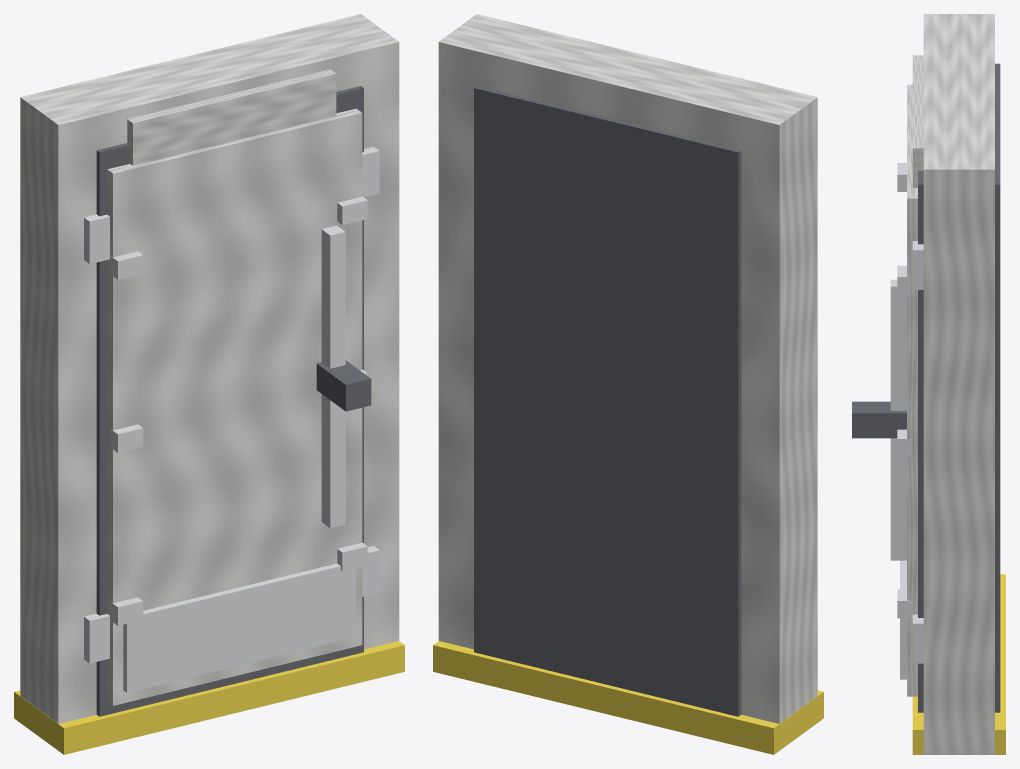
Rendered from cruise-ship-deck-and-lounge-cruise-ship-deck-and-loung-386d3bf7__38428.glb.
3 renders of one model, left to right at view 1: azimuth 30°, elevation 25°; view 2: azimuth 150°, elevation 25°; view 3: azimuth 270°, elevation 25°, orthographic. The views are drawn at different scales.
Parts seen in each view (by area): view 1: cruise-ship-deck-and-lounge-crew-door, crew-door-leaf/white, crew-door-leaf/steel (×7), crew-door-leaf/charcoal; view 2: cruise-ship-deck-and-lounge-crew-door; view 3: cruise-ship-deck-and-lounge-crew-door, crew-door-leaf/steel (×6), crew-door-leaf/white, crew-door-leaf/charcoal.
Part boxes in pixels (x1,y1,x2,y2): cruise-ship-deck-and-lounge-crew-door: [14, 14, 404, 754]; crew-door-leaf/white: [107, 108, 362, 705]; crew-door-leaf/steel (×7): [110, 196, 367, 692]; crew-door-leaf/charcoal: [316, 360, 371, 411]; cruise-ship-deck-and-lounge-crew-door: [433, 14, 823, 754]; cruise-ship-deck-and-lounge-crew-door: [912, 14, 1005, 754]; crew-door-leaf/steel (×6): [890, 163, 910, 679]; crew-door-leaf/white: [907, 84, 917, 696]; crew-door-leaf/charcoal: [852, 401, 906, 438].
Size of the model in its own units: 1.34 by 2.35 by 0.56.
Materials: 4 (1 with a texture image).
